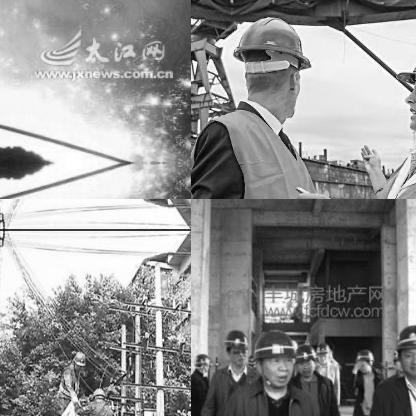Helmet: (226, 7, 314, 115), (252, 324, 296, 392), (392, 322, 415, 379), (222, 327, 246, 367), (352, 347, 380, 375), (312, 338, 336, 368), (294, 341, 314, 372), (191, 351, 211, 375), (68, 348, 88, 370), (90, 384, 106, 402)
